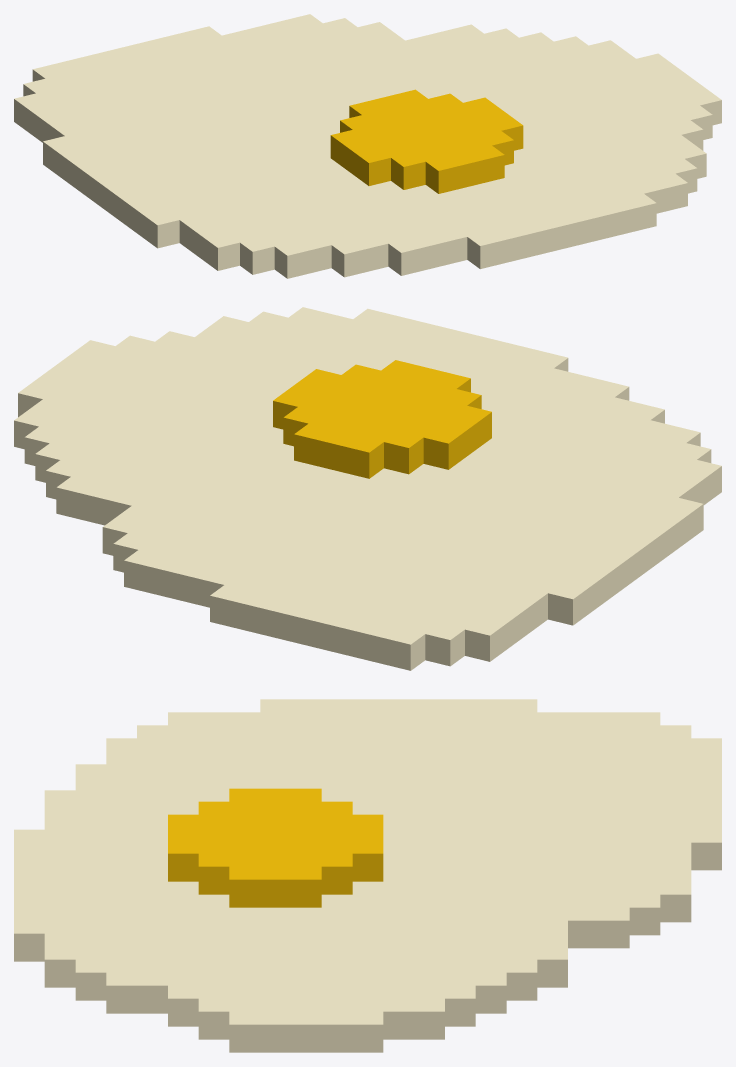
The model's file is eggLiquid.obj.
The picture shows the model from 3 angles, top to bottom: view 1: azimuth 30°, elevation 25°; view 2: azimuth 150°, elevation 25°; view 3: azimuth 270°, elevation 25°; orthographic projection. The views are drawn at different scales.
Parts seen in each view (by area): view 1: eggLiquid; view 2: eggLiquid; view 3: eggLiquid.
Part boxes in pixels (x1,y1,x2,y2): eggLiquid: [14, 14, 721, 278]; eggLiquid: [14, 307, 721, 670]; eggLiquid: [14, 699, 721, 1052].
Size of the model in its own units: 25 by 2 by 23.
Materials: 1 (1 with a texture image).
